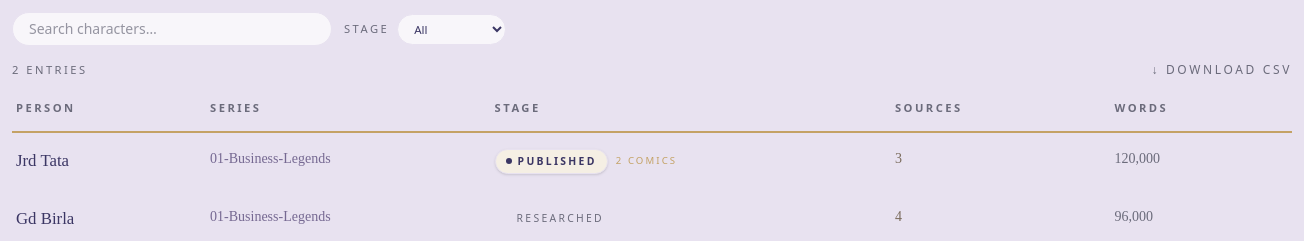
Scenario: PeopleTable search + filters › stage filter narrows the cast in pipeline order
The width and height of the screenshot is (1304, 241).
Select "Published" in the dropdown labelled "Stage" at coordinates (452, 29), box [397,14,506,44]
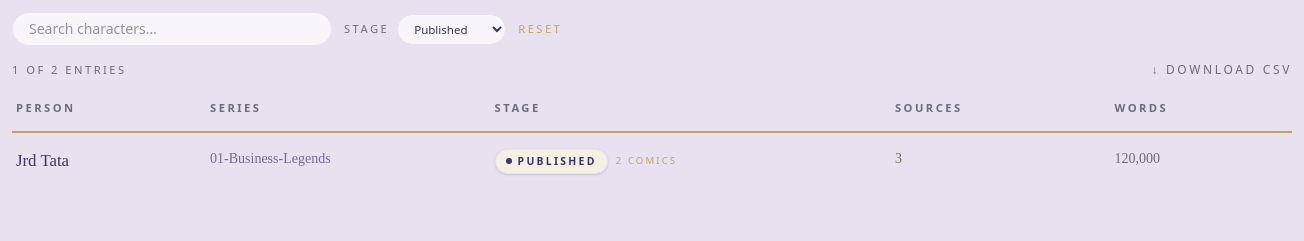
Check: the link "Jrd Tata" is shown, box [16,151,69,170]
Check: the link "Gd Birla" is gone
